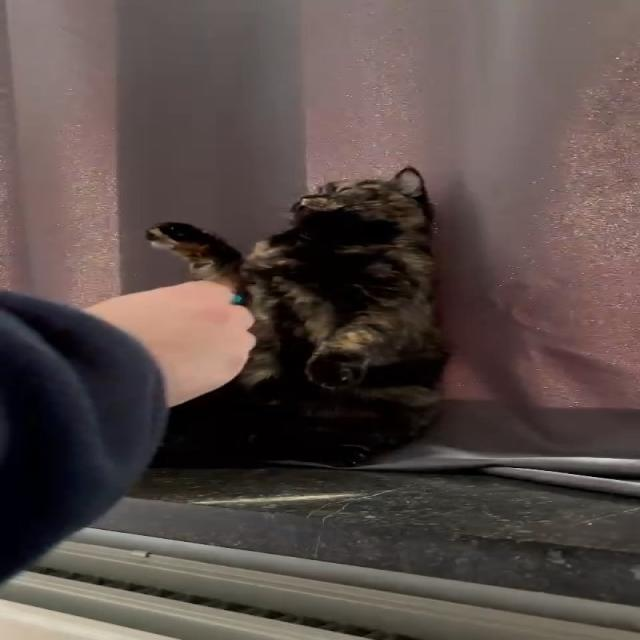authorized: (142, 165, 450, 468)
